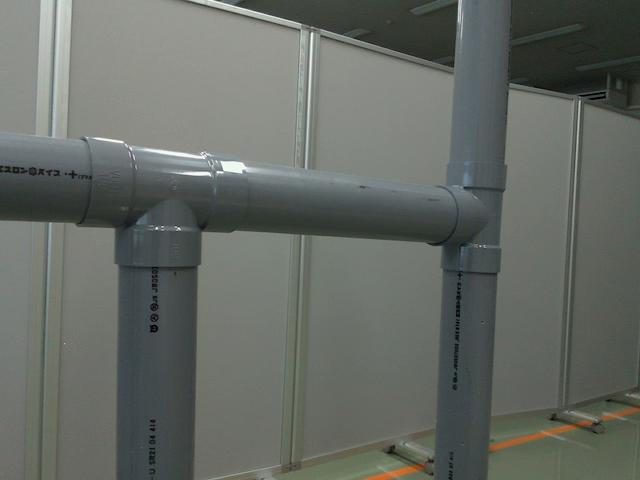junction: (74, 132, 250, 268), (427, 159, 508, 275)
